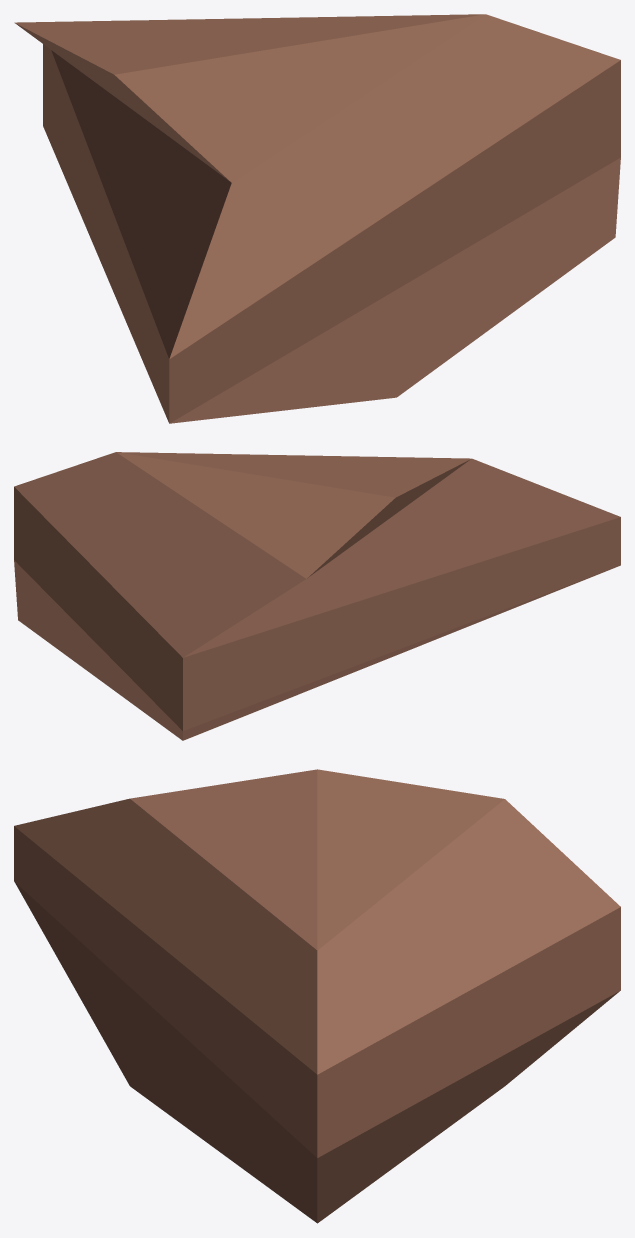
File: west_rock02.fbx
3 views of the same model, one above another, from view 1: azimuth 30°, elevation 25°; view 2: azimuth 150°, elevation 25°; view 3: azimuth 270°, elevation 25° (orthographic). The views are drawn at different scales.
Visible parts, largest first — view 1: pSphere4; view 2: pSphere4; view 3: pSphere4.
Boxes of the visible parts, box(x1,y1,x2,y2) form: pSphere4: box(14, 14, 620, 423); pSphere4: box(14, 452, 620, 740); pSphere4: box(14, 769, 620, 1223).
Size of the model in its own units: 2.18 by 1.04 by 2.12.
